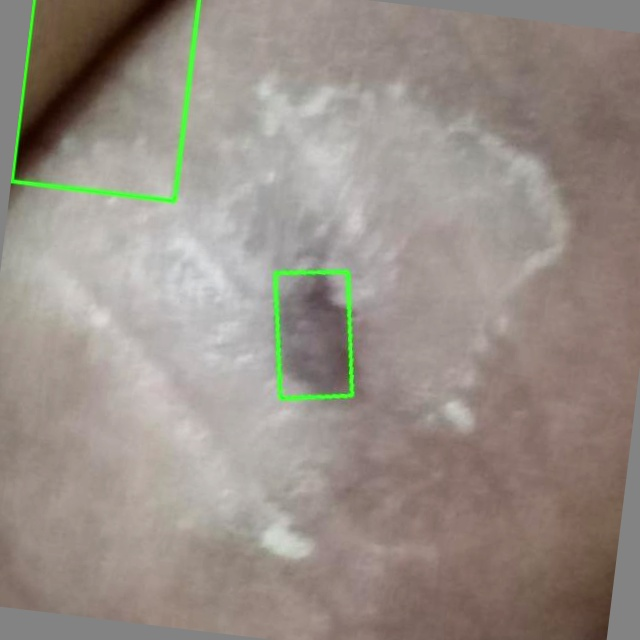Tinea Corporis: (11, 0, 199, 201), (276, 270, 353, 397)
